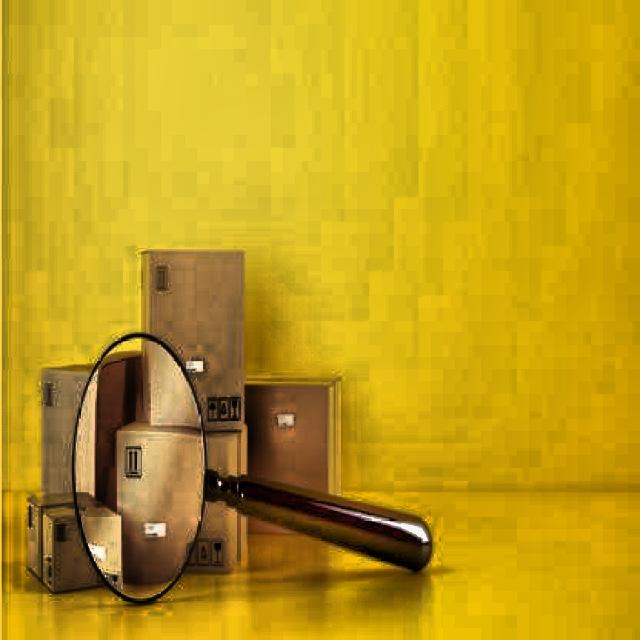Cardbox: (46, 250, 431, 601)
